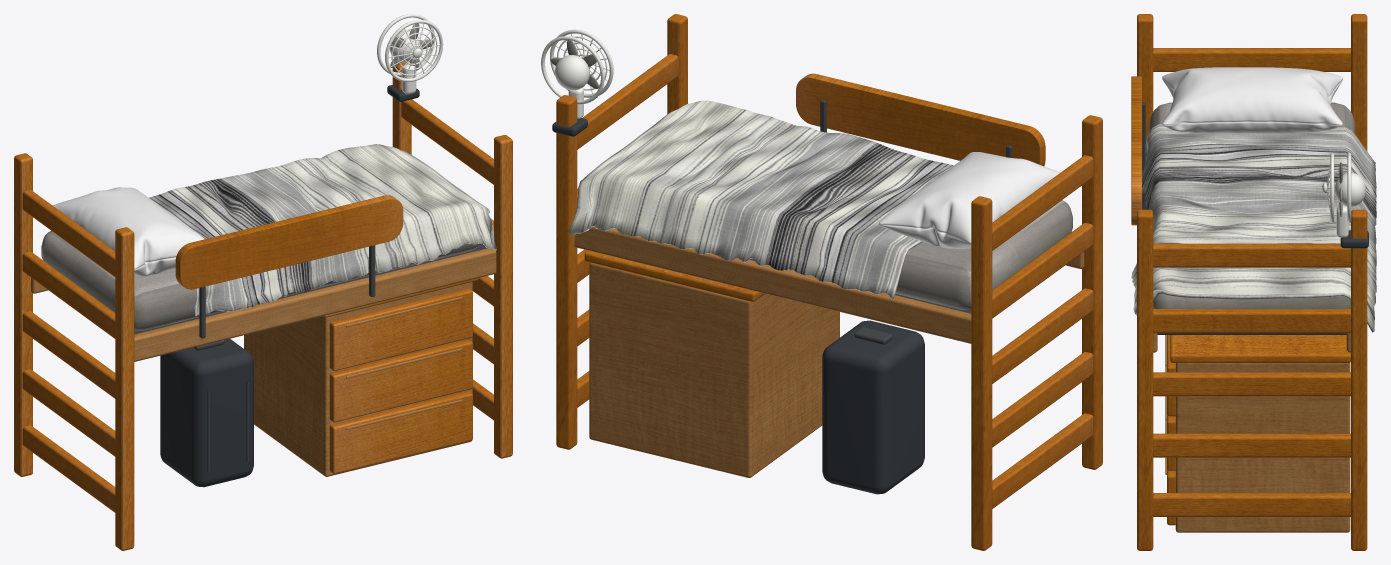
Rendered from bed.glb.
The picture shows the model from 3 angles, left to right: view 1: azimuth 30°, elevation 25°; view 2: azimuth 150°, elevation 25°; view 3: azimuth 270°, elevation 25°; orthographic projection. The views are drawn at different scales.
Parts seen in each view (by area): view 1: Striped comforter, Under-bed suitcase, Dresser cabinet, Rounded wooden safety rail, Mattress support rail, Drawer 2, Drawer 3, Drawer 1, Oak bedpost, Pillow 01, White fitted mattress, Oak bedpost.002 (+10 smaller); view 2: Striped comforter, Dresser cabinet, Under-bed suitcase, Rounded wooden safety rail, Mattress support rail.001, Pillow 01, Oak bedpost.001, Oak bedpost.003, White fitted mattress, Oak bedpost, End frame rung.001, End frame rung.004 (+8 smaller); view 3: Striped comforter, Dresser cabinet, Pillow 01, Oak bedpost.002, Oak bedpost.003, Dresser top, End frame rung.006, End frame rung.007, End frame rung.009, End frame rung.005, End frame rung.008, End frame rung.004 (+11 smaller).
Part boxes in pixels (box(x1,y1,x2,y2)): Striped comforter: box(149, 144, 496, 316); Under-bed suitcase: box(160, 338, 253, 487); Dresser cabinet: box(244, 282, 472, 476); Rounded wooden safety rail: box(175, 195, 403, 289); Mattress support rail: box(134, 248, 496, 361); Drawer 2: box(329, 340, 472, 422); Drawer 3: box(329, 288, 472, 370); Drawer 1: box(329, 391, 472, 473); Oak bedpost: box(115, 227, 134, 550); Pillow 01: box(52, 187, 204, 276); White fitted mattress: box(41, 230, 480, 330); Oak bedpost.002: box(494, 135, 512, 458); Striped comforter: box(567, 100, 953, 299); Dresser cabinet: box(589, 262, 839, 477); Under-bed suitcase: box(822, 320, 924, 494); Rounded wooden safety rail: box(796, 73, 1045, 166); Mattress support rail.001: box(574, 226, 971, 343); Pillow 01: box(879, 152, 1060, 248); Oak bedpost.001: box(971, 196, 992, 550); Oak bedpost.003: box(556, 95, 577, 449); White fitted mattress: box(895, 200, 1072, 309); Oak bedpost: box(1082, 115, 1102, 469); End frame rung.001: box(992, 352, 1093, 447); End frame rung.004: box(992, 155, 1093, 250); Striped comforter: box(1131, 124, 1376, 332); Dresser cabinet: box(1175, 363, 1350, 532); Pillow 01: box(1162, 67, 1342, 133); Oak bedpost.002: box(1137, 209, 1153, 550); Oak bedpost.003: box(1351, 209, 1367, 550); Dresser top: box(1170, 335, 1350, 362); End frame rung.006: box(1153, 433, 1350, 457); End frame rung.007: box(1153, 372, 1350, 396); End frame rung.009: box(1153, 243, 1350, 267); End frame rung.005: box(1153, 493, 1350, 516); End frame rung.008: box(1153, 309, 1350, 332); End frame rung.004: box(1153, 48, 1350, 71).
Size of the model in its own units: 2.31 by 1.98 by 1.12.
Materials: 11 (7 with a texture image).
